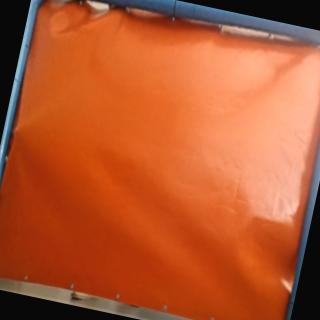Hit-hRxx: (10, 122, 22, 140)
